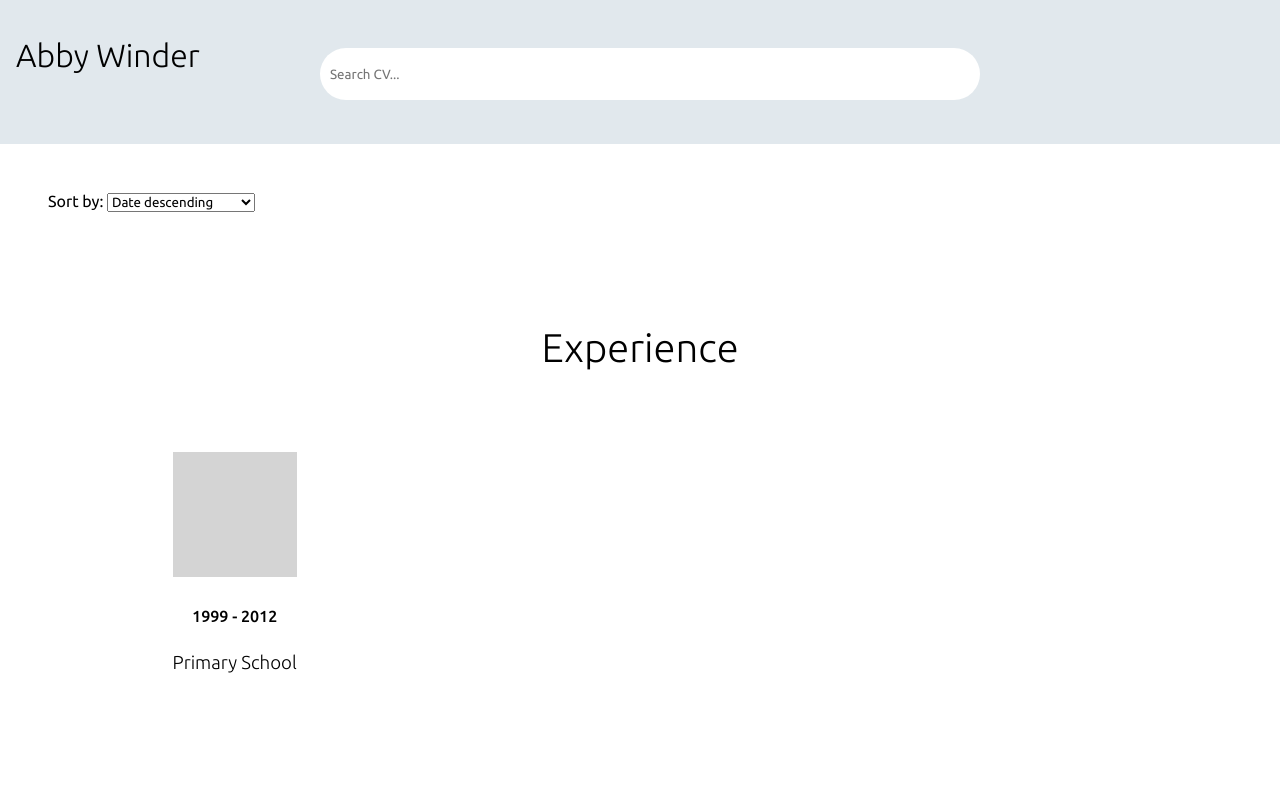
Scenario: <LandingScreen /> › Produces validation error when bad characters are inputted in search bar
The width and height of the screenshot is (1280, 800).
Type "react%" into the field at (650, 74), box [320,48,980,100]
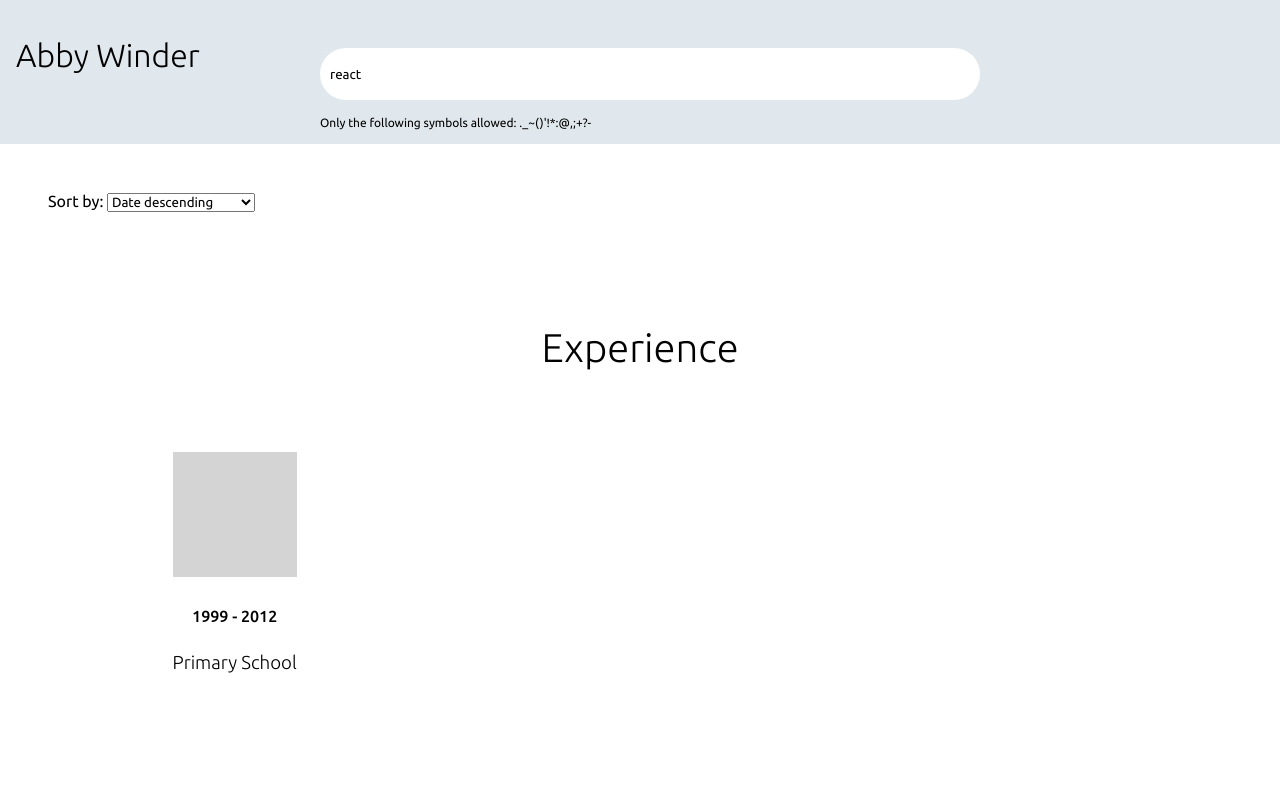
Check: the text "Only the following symbols allowed: ._~()'!*:@,;+?-" is shown, box [320,116,591,129]
